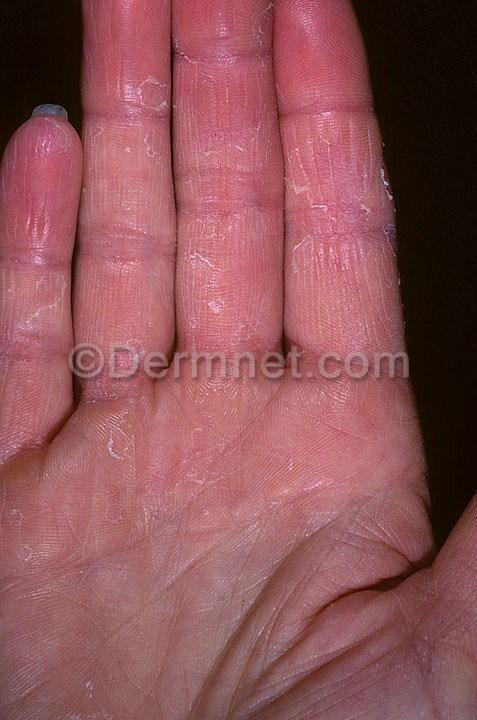Eczema: (168, 236, 278, 343), (99, 406, 186, 499), (289, 212, 394, 289), (116, 47, 204, 136), (202, 139, 274, 205), (311, 92, 366, 168)
